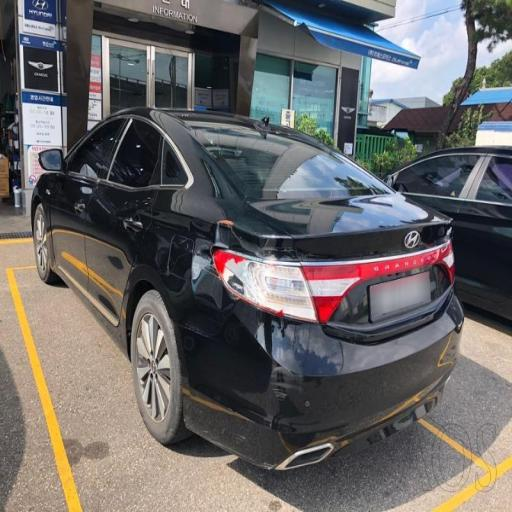broken: (180, 211, 266, 342)
scratch: (221, 289, 350, 459)
